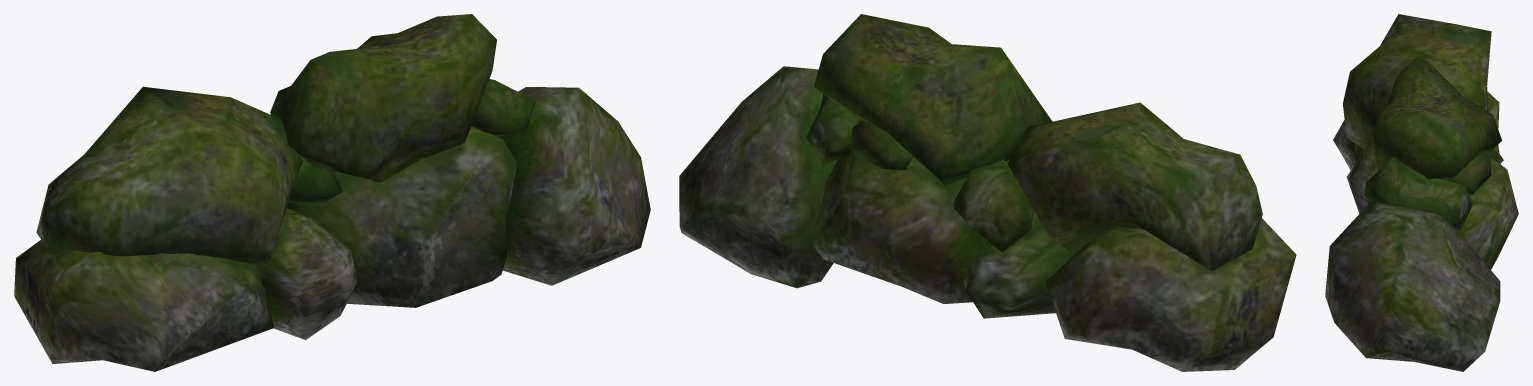
File: wall.glb
3 renders of one model, left to right at view 1: azimuth 30°, elevation 25°; view 2: azimuth 150°, elevation 25°; view 3: azimuth 270°, elevation 25°, orthographic. The views are drawn at different scales.
Bounding box in the file's own units: 3.22 × 1.4 × 1.12.
1 material, 1 textured.
